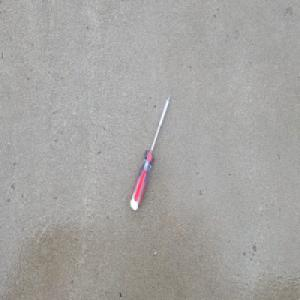Screwdriver: (129, 90, 172, 213)
